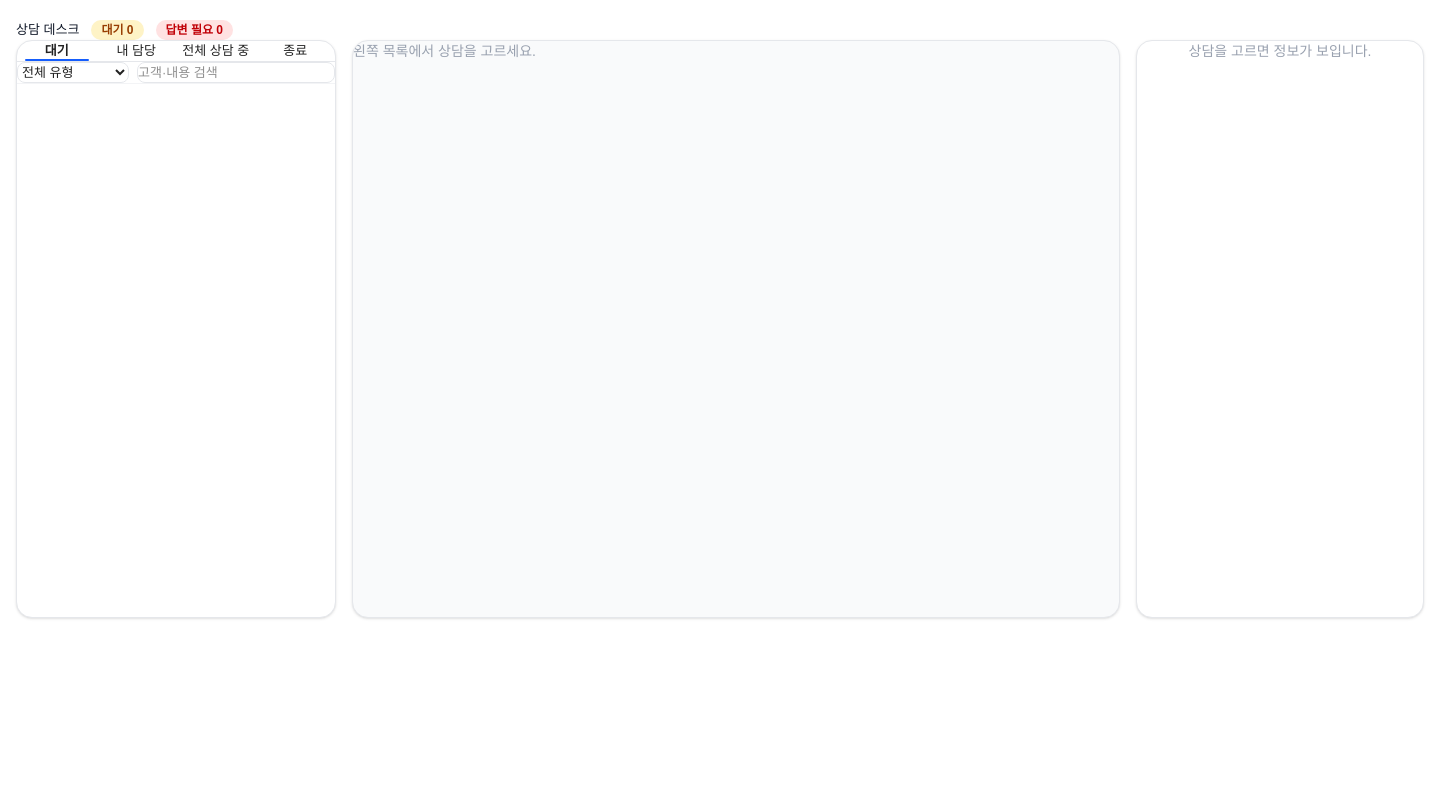
Test: Desk — 상담 데스크 › 맡은 상담은 반납할 수 있다 — 확인을 받고 서버에 보낸다
Click the tab "내 담당" at (136, 51), box [96,41,176,60]
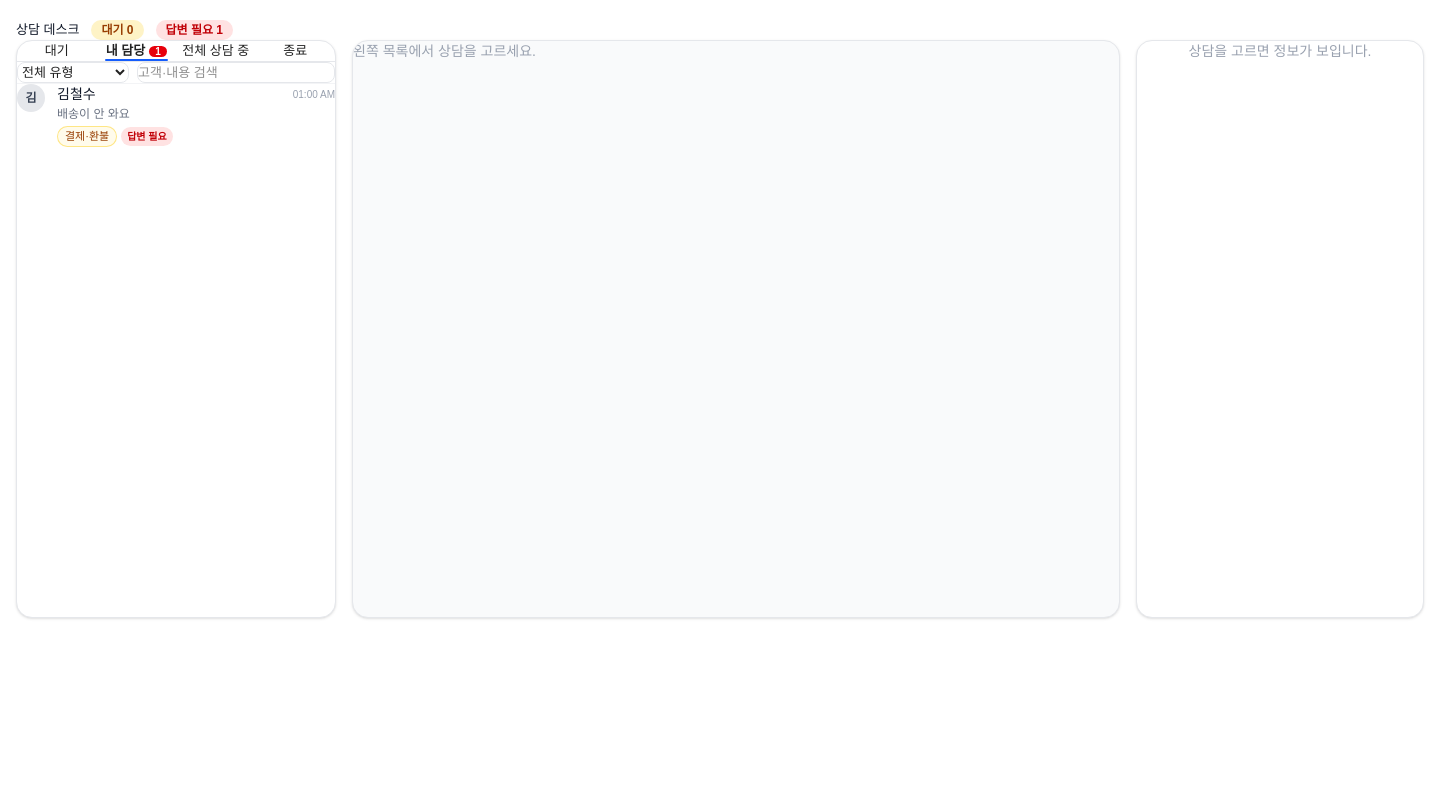
Click the button "김 김철수 01:00 AM 배송이 안 와요 결제·환불 답변 필요" at (76, 94), box [17,84,335,146]
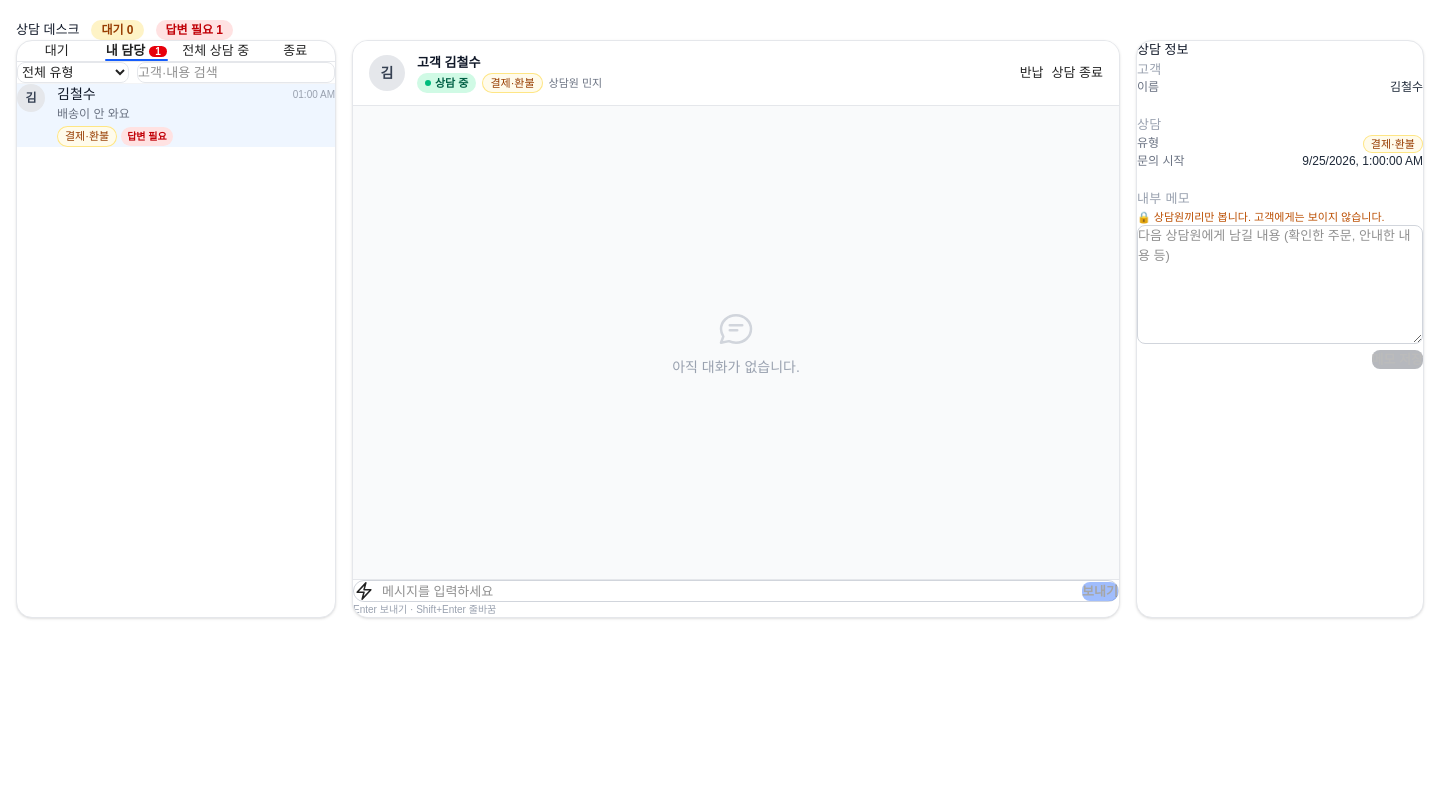
Click the button "반납" at (1032, 73), box [1020,63,1044,83]
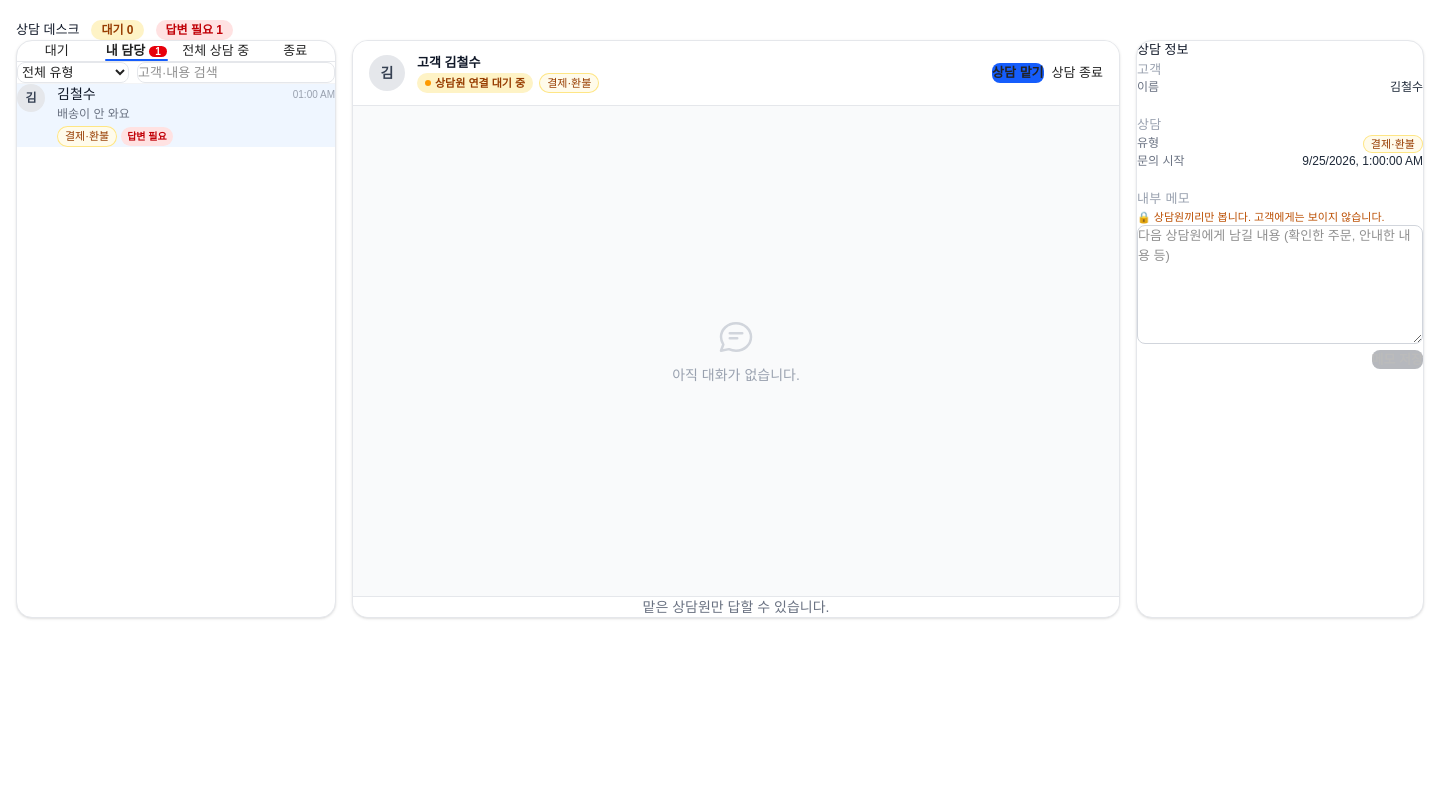
Result: the button "상담 맡기" is shown at [992,63,1044,83]
